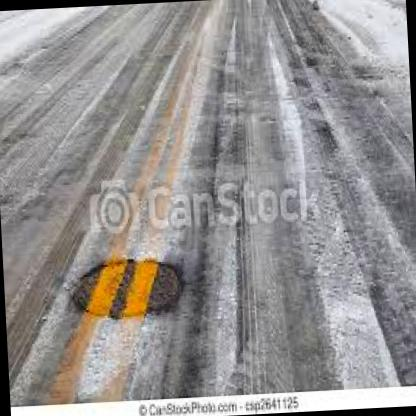manholes: (57, 222, 214, 336)
